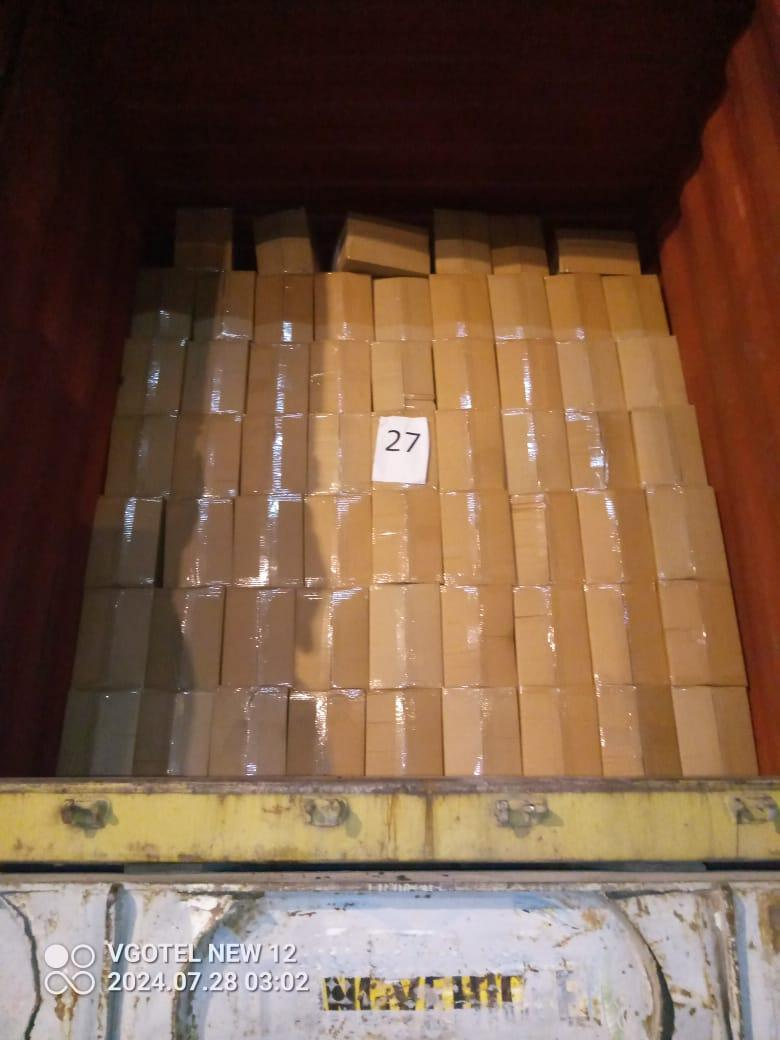carton: (388, 490, 515, 685), (658, 581, 746, 686), (584, 581, 669, 686), (72, 588, 155, 690), (145, 587, 225, 691), (513, 583, 592, 687), (597, 684, 682, 778), (646, 486, 729, 582), (672, 685, 758, 777), (441, 585, 517, 688), (369, 584, 442, 690), (294, 588, 369, 691), (519, 684, 602, 777), (576, 488, 656, 584), (221, 586, 296, 688), (208, 687, 289, 778), (57, 689, 140, 777), (442, 686, 522, 776), (133, 688, 214, 776), (85, 497, 162, 588), (510, 492, 584, 586), (365, 688, 443, 777), (287, 689, 366, 776), (372, 487, 442, 583), (232, 494, 304, 587), (304, 494, 372, 588), (163, 498, 234, 588), (631, 405, 707, 486), (333, 214, 431, 276), (104, 415, 177, 498), (172, 413, 242, 498), (501, 409, 571, 494), (566, 409, 639, 490), (436, 409, 506, 491), (240, 412, 308, 495), (115, 338, 185, 416), (370, 410, 437, 490), (307, 413, 372, 494), (617, 336, 687, 409), (557, 338, 626, 411), (181, 339, 248, 414), (495, 339, 563, 410), (433, 337, 499, 410), (131, 268, 196, 341), (370, 340, 435, 412), (246, 343, 310, 415), (309, 339, 371, 413), (545, 274, 612, 342), (487, 272, 552, 341), (603, 274, 669, 340), (193, 271, 256, 340), (429, 274, 493, 340), (254, 208, 317, 275), (314, 272, 375, 341), (254, 274, 314, 344), (555, 228, 641, 275), (373, 277, 433, 342), (433, 209, 492, 274), (174, 208, 233, 271), (488, 215, 549, 274)
